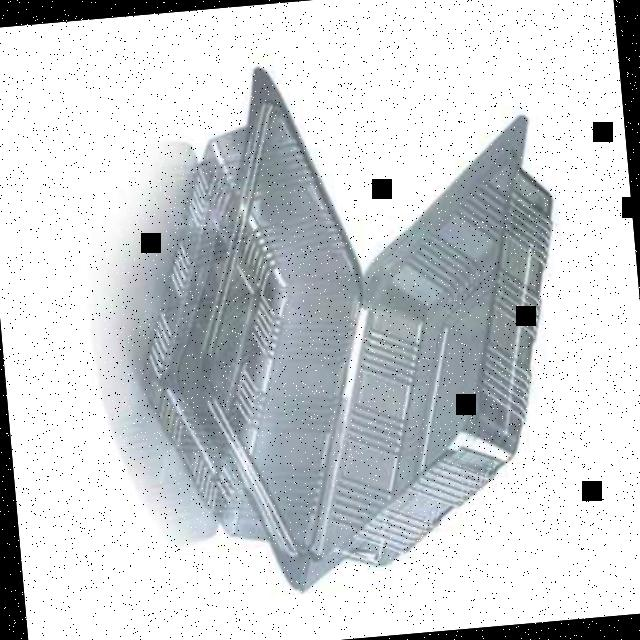plastic_box: (116, 43, 587, 608)
